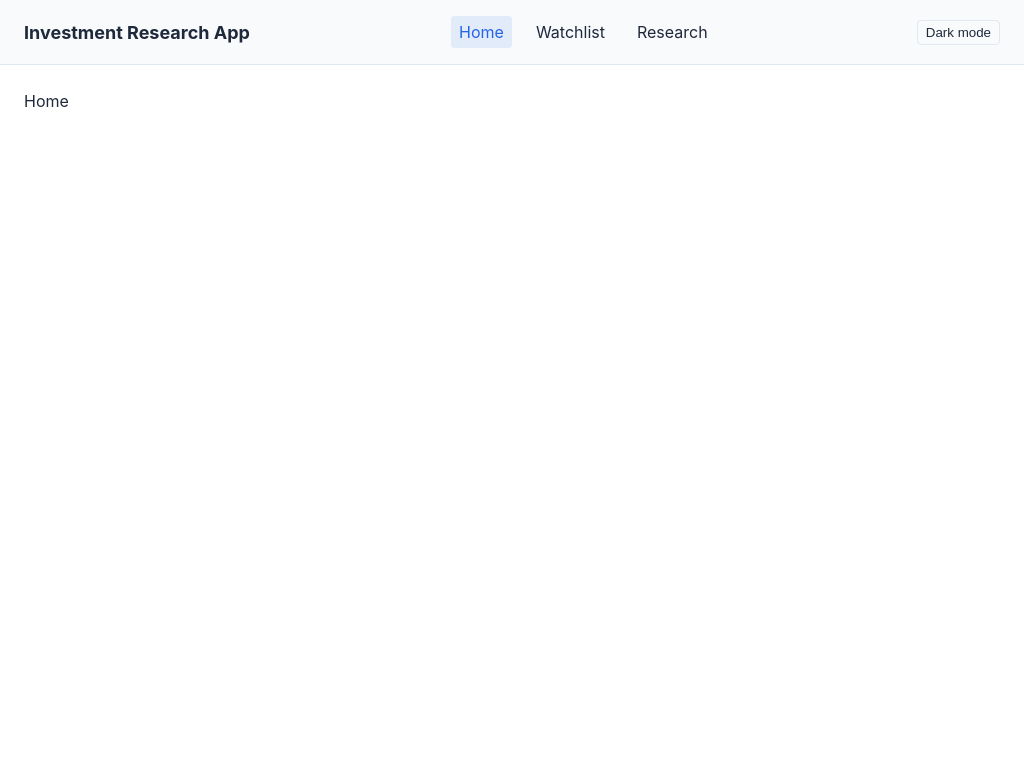
it: Layout › toggles theme mode label
Click the button "Dark mode": [958, 32] box [917,20,1000,44]
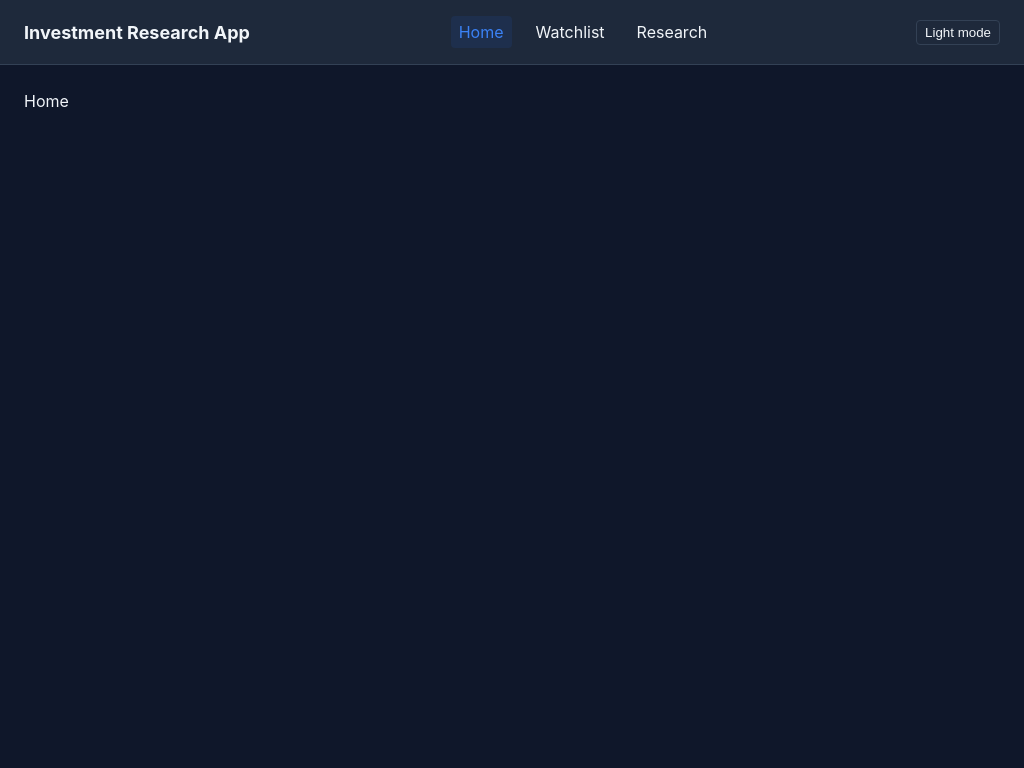
Now the button named "dark mode" reads "Light mode", box [916,20,1000,44]
